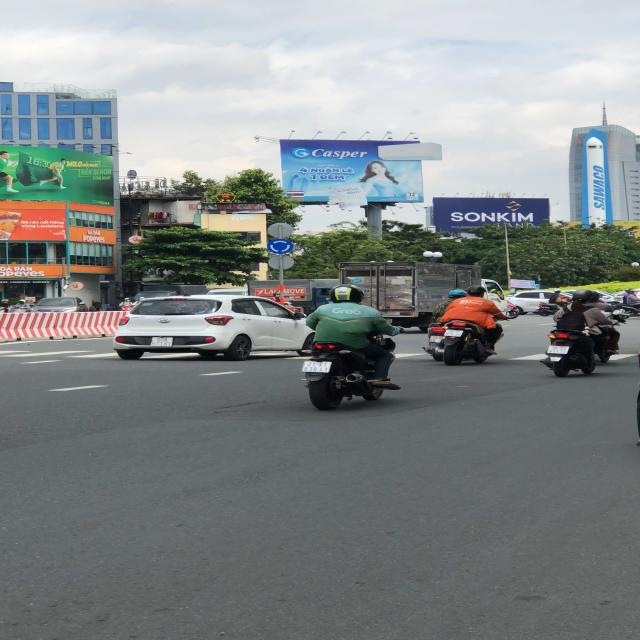Bien bao noi giao nhau chay theo vong xuyen: (266, 238, 298, 254)
